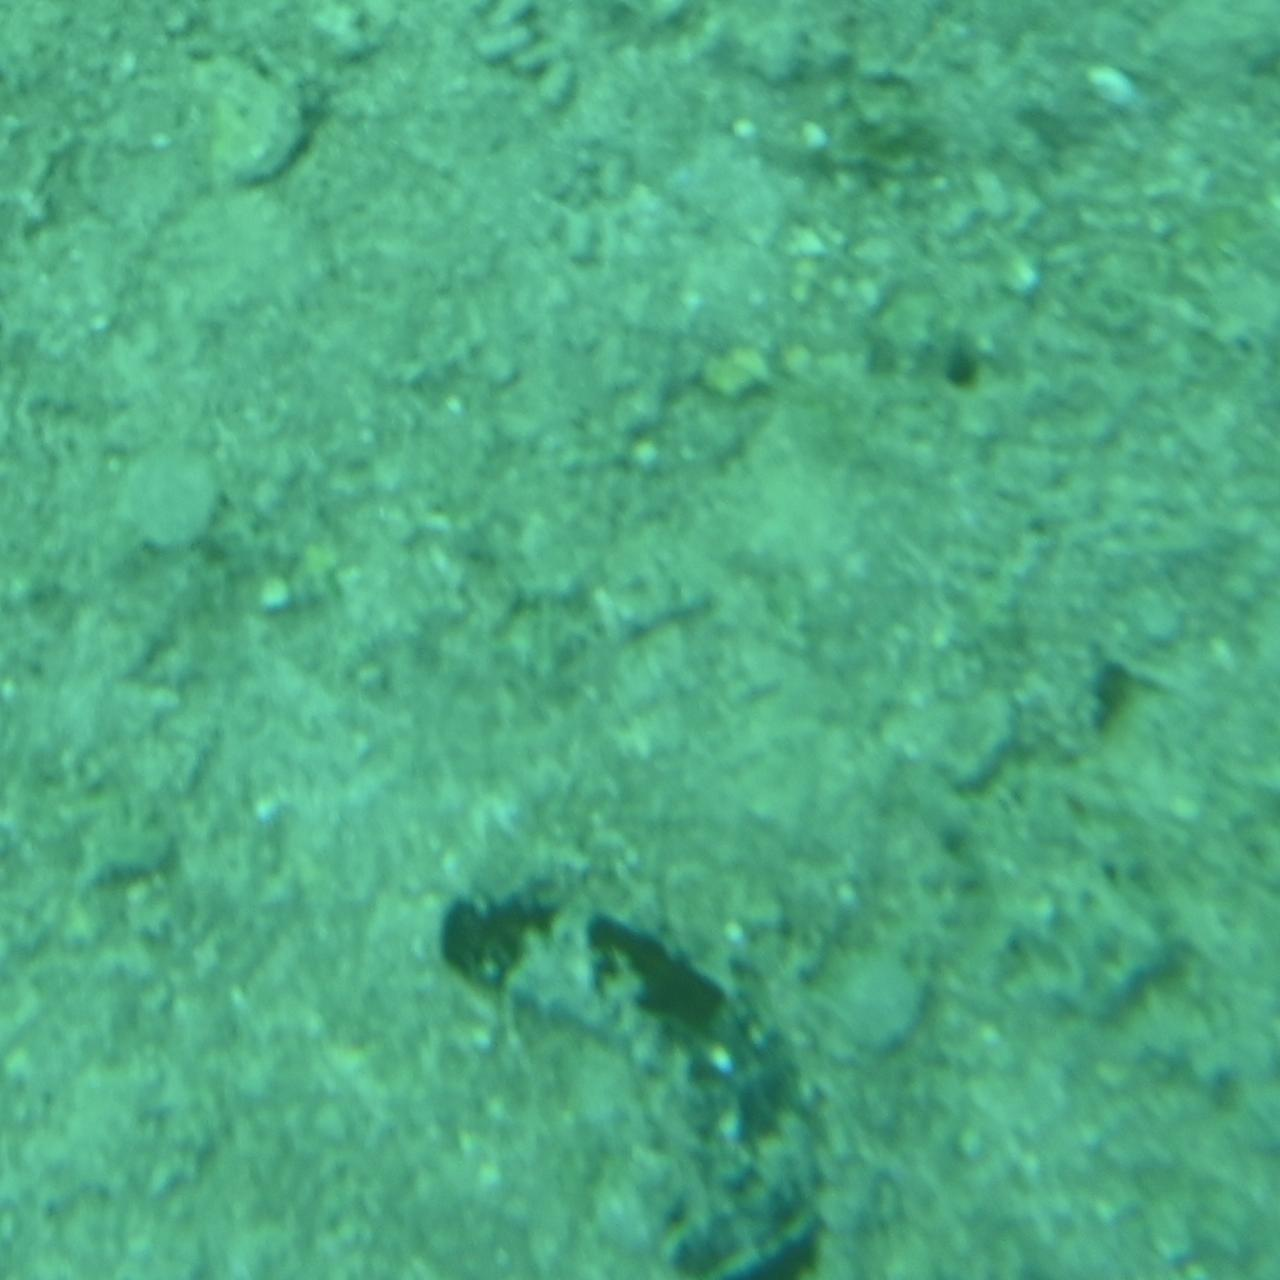Holothuria tubulosa: (442, 871, 838, 1279)
